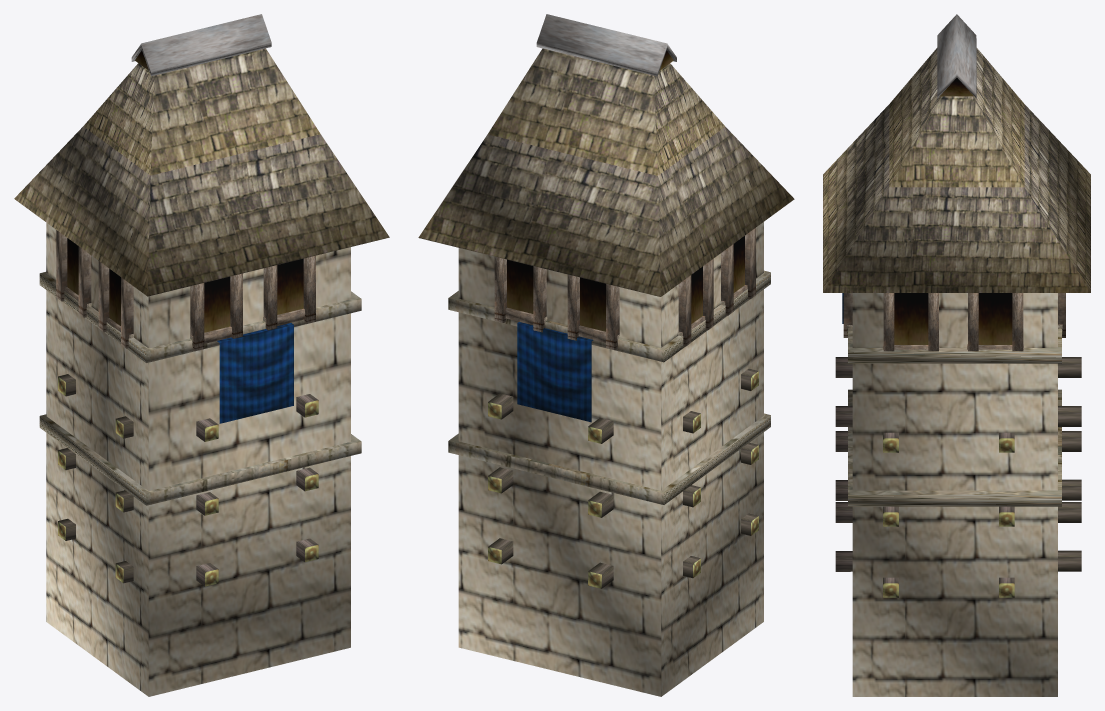
File: wall_tower_2.dae
The picture shows the model from 3 angles, left to right: view 1: azimuth 30°, elevation 25°; view 2: azimuth 150°, elevation 25°; view 3: azimuth 270°, elevation 25°; orthographic projection.
Visible parts, largest first — view 1: wall_tower_2; view 2: wall_tower_2; view 3: wall_tower_2.
Boxes of the visible parts, x1,y1,x2,y2 form: wall_tower_2: [14, 14, 389, 696]; wall_tower_2: [418, 14, 794, 696]; wall_tower_2: [823, 14, 1090, 696].
Bounding box in the file's own units: 9 × 8.6 × 21.47.
